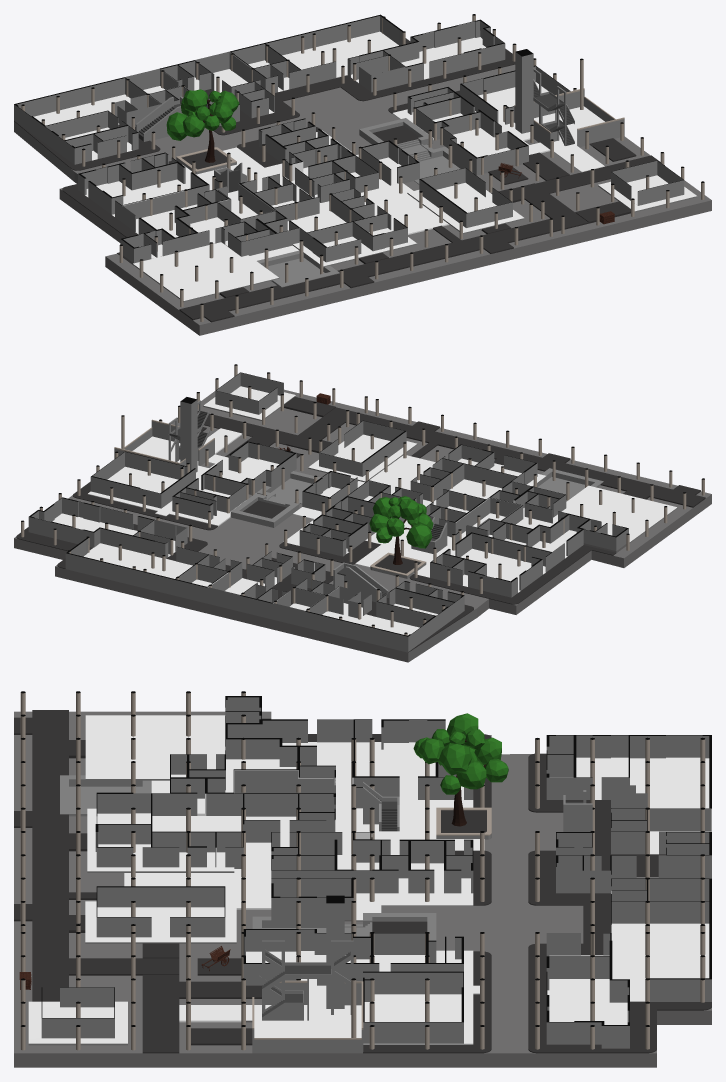
The model's file is G_floor_Final.glb.
3 views of the same model, one above another, from view 1: azimuth 30°, elevation 25°; view 2: azimuth 150°, elevation 25°; view 3: azimuth 270°, elevation 25° (orthographic). The views are drawn at different scales.
Parts seen in each view (by area): view 1: Plane.738, Plane.510, Plane.478, Plane.490, Plane.557, Plane.489, Plane.003, Plane.529, Plane.505, Plane.468, Plane.458, Plane.532 (+52 smaller); view 2: Plane.738, Plane.510, Plane.478, Plane.490, Plane.489, Plane.505, Plane.529, Plane.471, Plane.004, Plane.557, Plane.458, Material_001-material (+46 smaller); view 3: Plane.738, Plane.510, Plane.478, Plane.003, Plane.490, Plane.557, Plane.489, Plane.471, Plane.458, Plane.529, Plane.505, Material_001-material (+61 smaller).
Boxes of the visible parts, bbox=[...] form: Plane.738: bbox=[14, 64, 711, 335]; Plane.510: bbox=[109, 136, 711, 325]; Plane.478: bbox=[179, 183, 588, 322]; Plane.490: bbox=[264, 14, 402, 86]; Plane.557: bbox=[132, 242, 279, 302]; Plane.489: bbox=[383, 19, 505, 83]; Plane.003: bbox=[14, 38, 515, 170]; Plane.529: bbox=[78, 162, 208, 221]; Plane.505: bbox=[14, 77, 146, 142]; Plane.468: bbox=[441, 111, 528, 175]; Plane.458: bbox=[419, 168, 512, 227]; Plane.532: bbox=[121, 184, 215, 252]; Plane.738: bbox=[14, 494, 711, 662]; Plane.510: bbox=[172, 389, 711, 555]; Plane.478: bbox=[286, 407, 705, 507]; Plane.490: bbox=[65, 536, 208, 595]; Plane.489: bbox=[28, 497, 154, 557]; Plane.505: bbox=[305, 596, 436, 652]; Plane.529: bbox=[443, 532, 552, 597]; Plane.471: bbox=[90, 451, 195, 508]; Plane.004: bbox=[72, 481, 616, 604]; Plane.557: bbox=[553, 485, 677, 543]; Plane.458: bbox=[319, 420, 406, 476]; Material_001-material: bbox=[369, 496, 433, 564]; Plane.738: bbox=[14, 711, 711, 1067]; Plane.510: bbox=[14, 711, 362, 1053]; Plane.478: bbox=[14, 710, 179, 975]; Plane.003: bbox=[528, 753, 711, 1053]; Plane.490: bbox=[611, 902, 711, 1001]; Plane.557: bbox=[85, 715, 225, 780]; Plane.489: bbox=[546, 956, 638, 1048]; Plane.471: bbox=[363, 971, 463, 1043]; Plane.458: bbox=[96, 886, 225, 937]; Plane.529: bbox=[353, 719, 445, 799]; Plane.505: bbox=[629, 735, 711, 831]; Material_001-material: bbox=[413, 713, 508, 826].
Size of the model in its own units: 4.4 by 0.7309 by 3.8.
